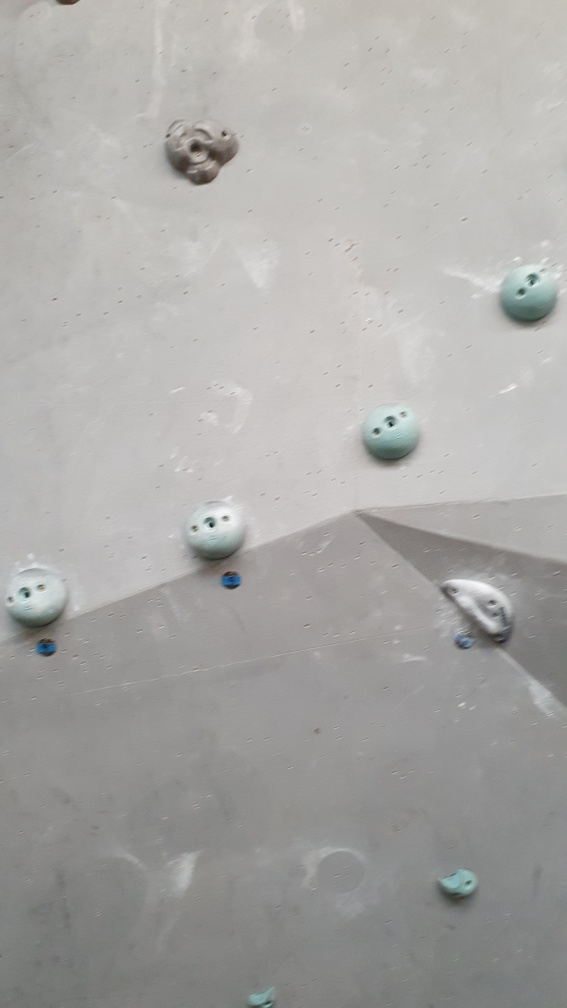Hand Start: (34, 637, 58, 661), (453, 630, 476, 653), (218, 570, 242, 591)
Jug: (164, 115, 243, 191)
Sloper: (184, 499, 250, 563), (361, 401, 426, 465), (6, 568, 71, 628), (498, 262, 558, 325)
